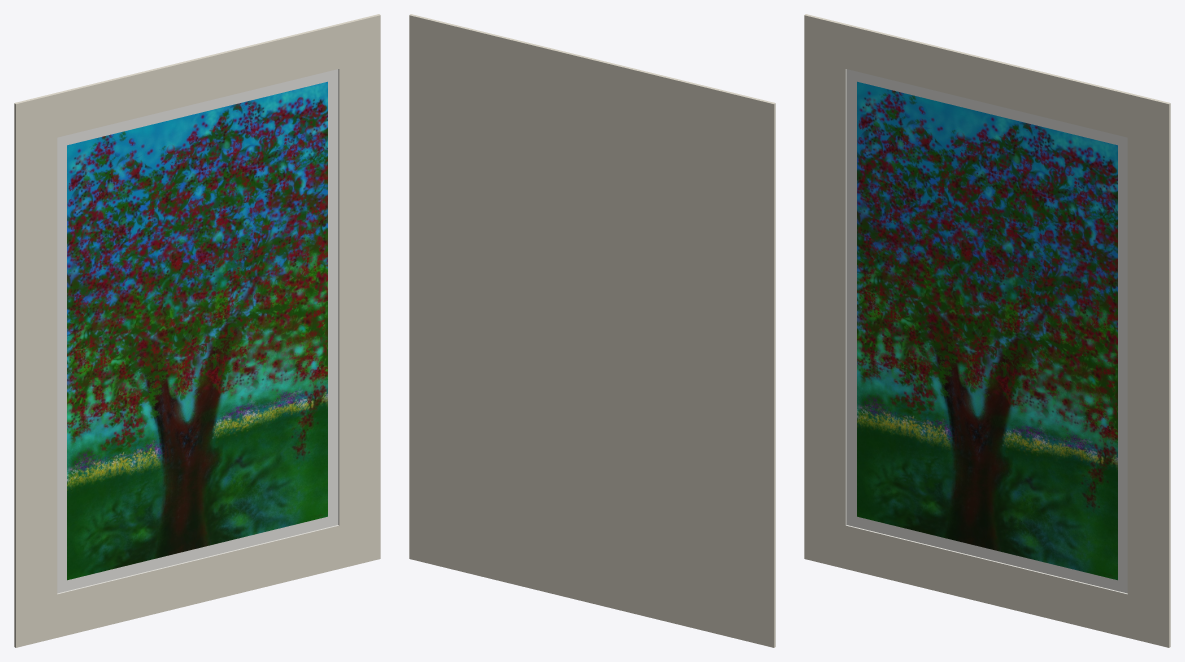
The model's file is os006_moyen_passe-partout.glb.
The picture shows the model from 3 angles, left to right: view 1: azimuth 30°, elevation 25°; view 2: azimuth 150°, elevation 25°; view 3: azimuth 330°, elevation 25°; orthographic projection.
Parts seen in each view (by area): view 1: os006_moyen_passe-partout; view 2: os006_moyen_passe-partout; view 3: os006_moyen_passe-partout.
Part boxes in pixels (x1,y1,x2,y2): os006_moyen_passe-partout: (14, 14, 380, 647); os006_moyen_passe-partout: (409, 14, 775, 647); os006_moyen_passe-partout: (804, 14, 1170, 647).
Bounding box in the file's own units: 0.7024 × 1 × 0.0055.
4 materials, 1 textured.
